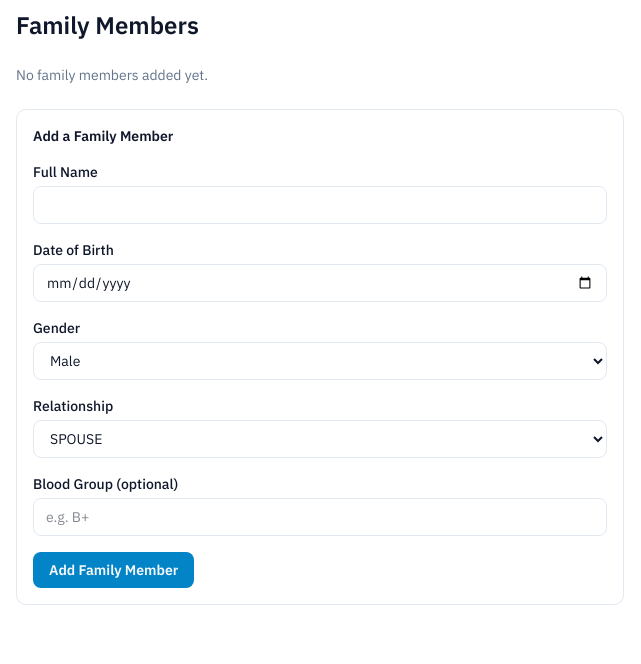
PatientFamilyPage › adds a new family member and shows it in the list
The width and height of the screenshot is (641, 664).
Check: the button "Add Family Member" is shown, box [33,552,194,588]
Type "New Spouse" into the field labelled "Full Name" at (320, 205), box [33,186,607,224]
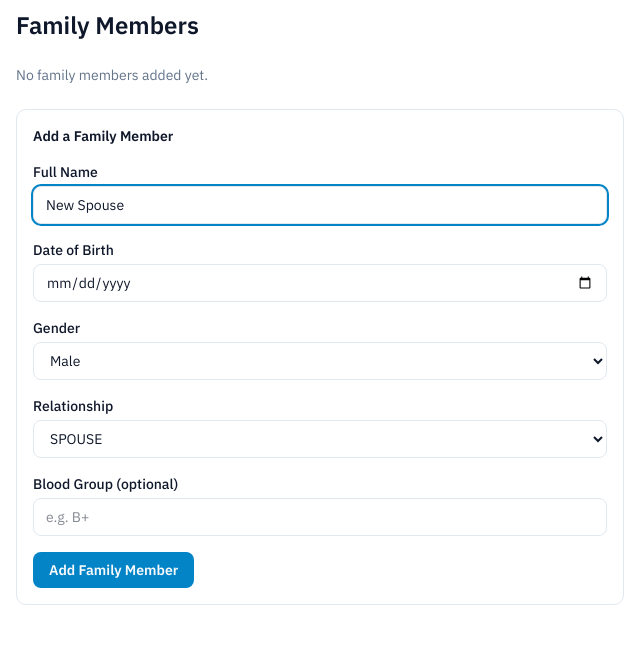
Type "1990-05-05" into the date field labelled "Date of Birth" at (320, 283), box [33,264,607,302]
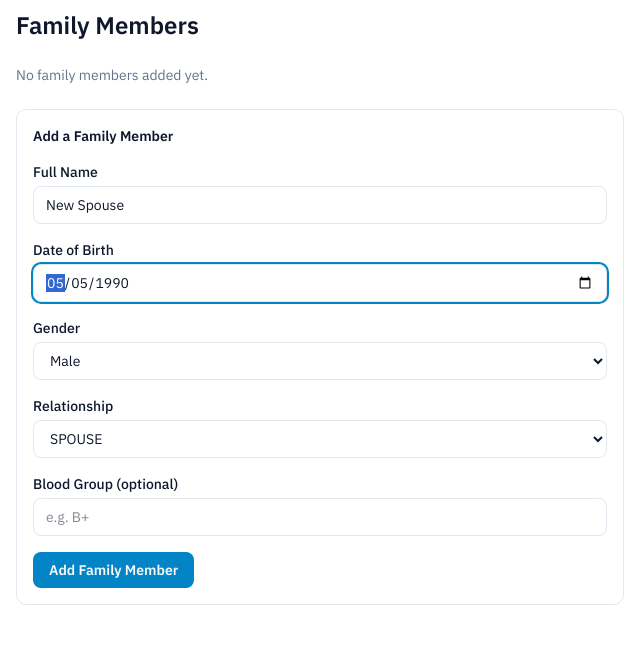
Select "SPOUSE" in the dropdown labelled "Relationship" at (320, 439), box [33,420,607,458]
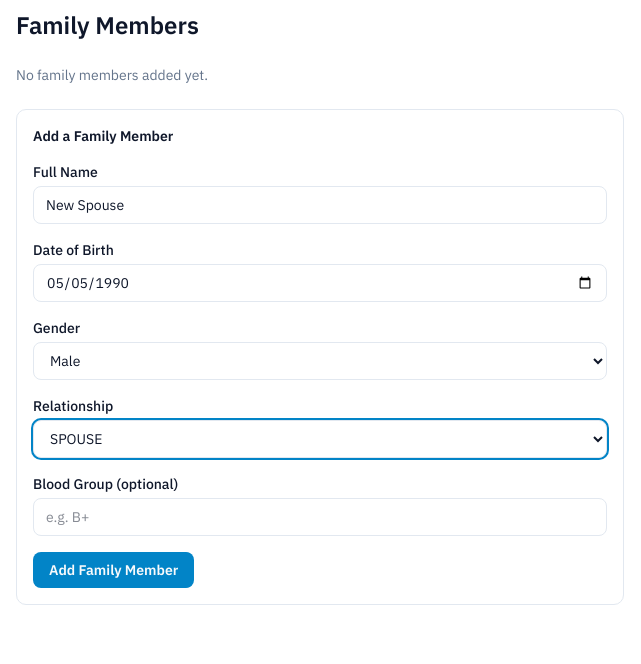
Click the button "Add Family Member" at (114, 570), box [33,552,194,588]
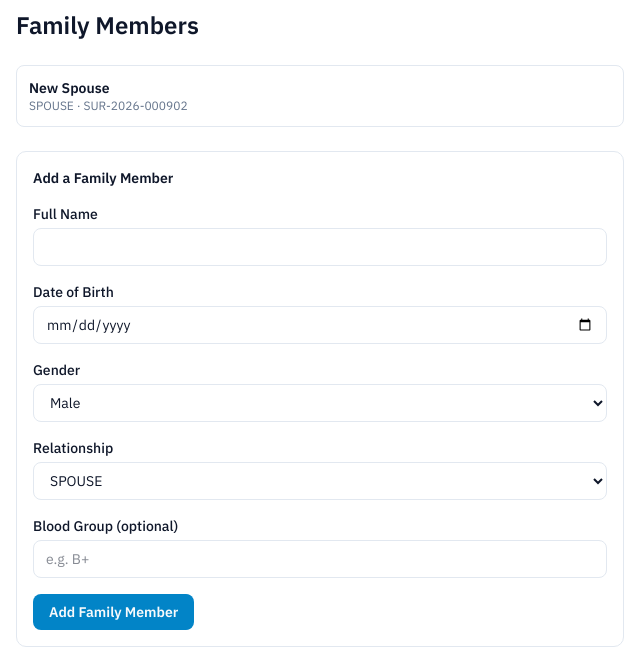
Check: the text "New Spouse" is shown, box [29,79,110,97]
